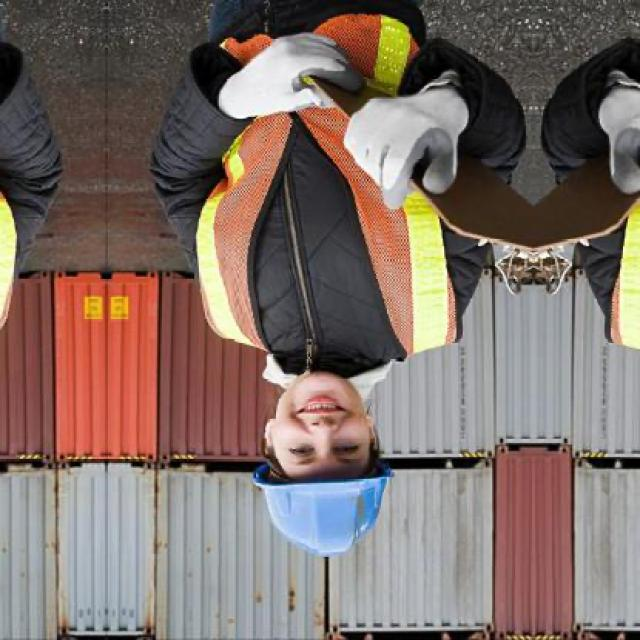con casco: (251, 381, 391, 582)
